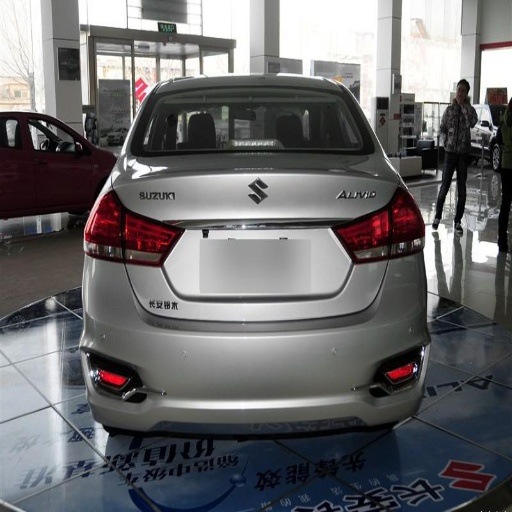back_bumper: (65, 241, 430, 436)
